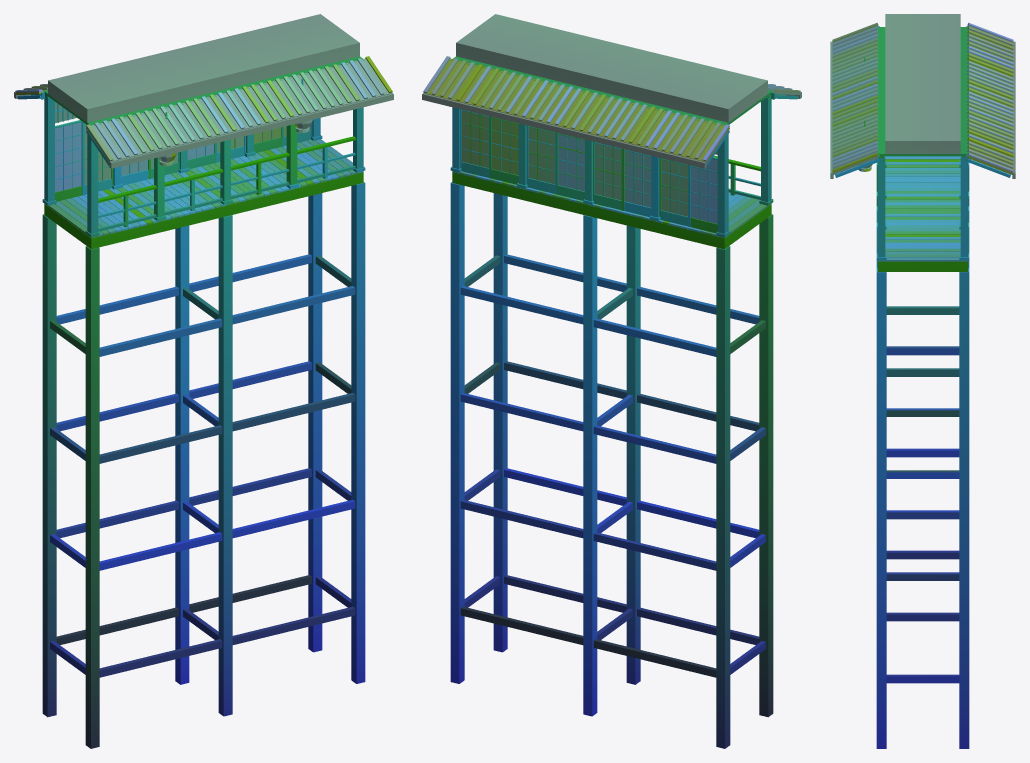
The model's file is B_corr_c.glb.
The picture shows the model from 3 angles, left to right: view 1: azimuth 30°, elevation 25°; view 2: azimuth 150°, elevation 25°; view 3: azimuth 270°, elevation 25°; orthographic projection. The views are drawn at different scales.
Visible parts, largest first — view 1: B_corr_c; view 2: B_corr_c; view 3: B_corr_c.
Part boxes in pixels (x1,y1,x2,y2): B_corr_c: (14, 14, 393, 748); B_corr_c: (422, 14, 801, 748); B_corr_c: (830, 14, 1015, 748).
Bounding box in the file's own units: 8.3 × 17.85 × 4.94.
